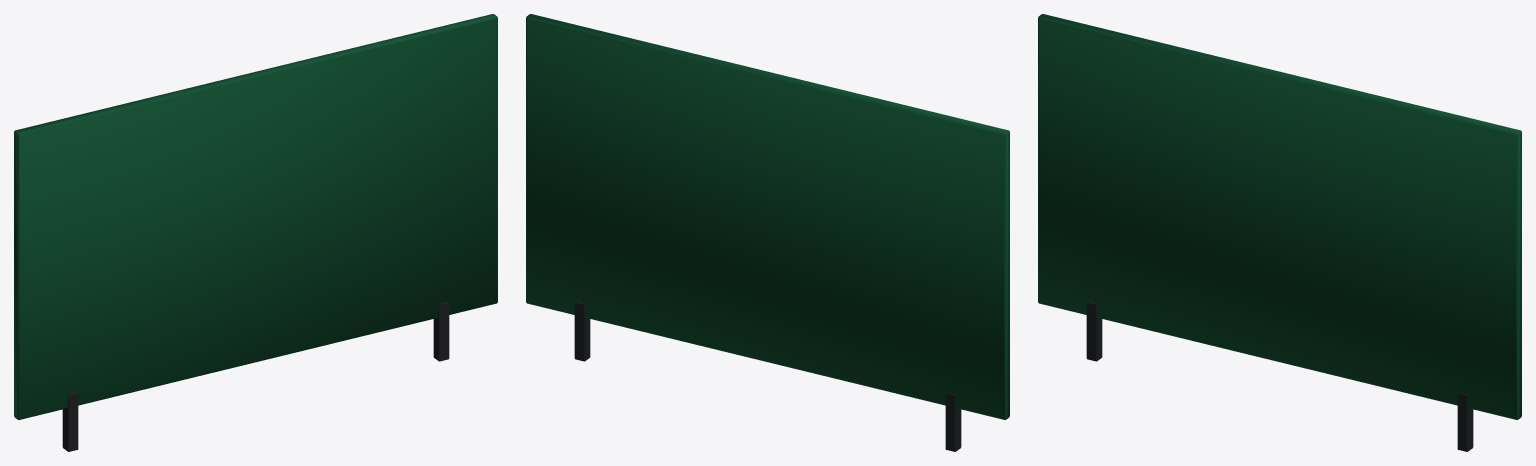
File: sightscreen.glb
3 views of the same model, side by side, from view 1: azimuth 30°, elevation 25°; view 2: azimuth 150°, elevation 25°; view 3: azimuth 330°, elevation 25° (orthographic).
Visible parts, largest first — view 1: Sightscreen; view 2: Sightscreen; view 3: Sightscreen.
Boxes of the visible parts, x1=… form: Sightscreen: x1=14, y1=14, x2=497, y2=451; Sightscreen: x1=526, y1=14, x2=1009, y2=451; Sightscreen: x1=1038, y1=14, x2=1521, y2=451.
Bounding box in the file's own units: 14 × 9.2 × 0.3.
